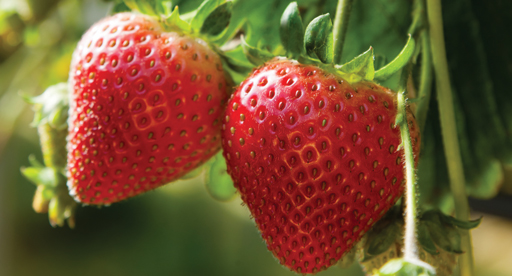ripe: (221, 57, 434, 272), (62, 11, 243, 207)
